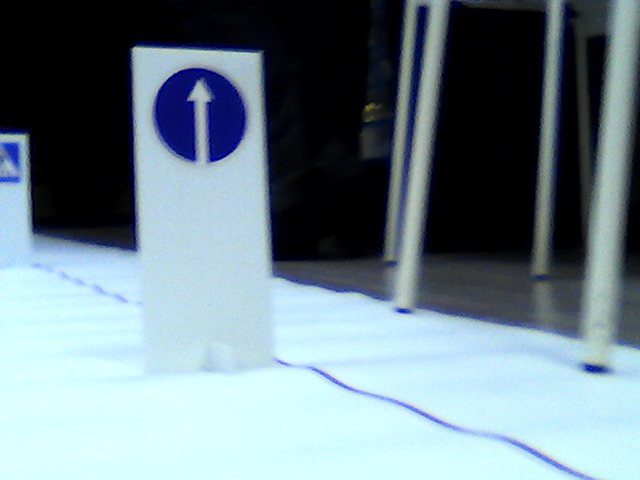forw: (148, 64, 258, 165)
